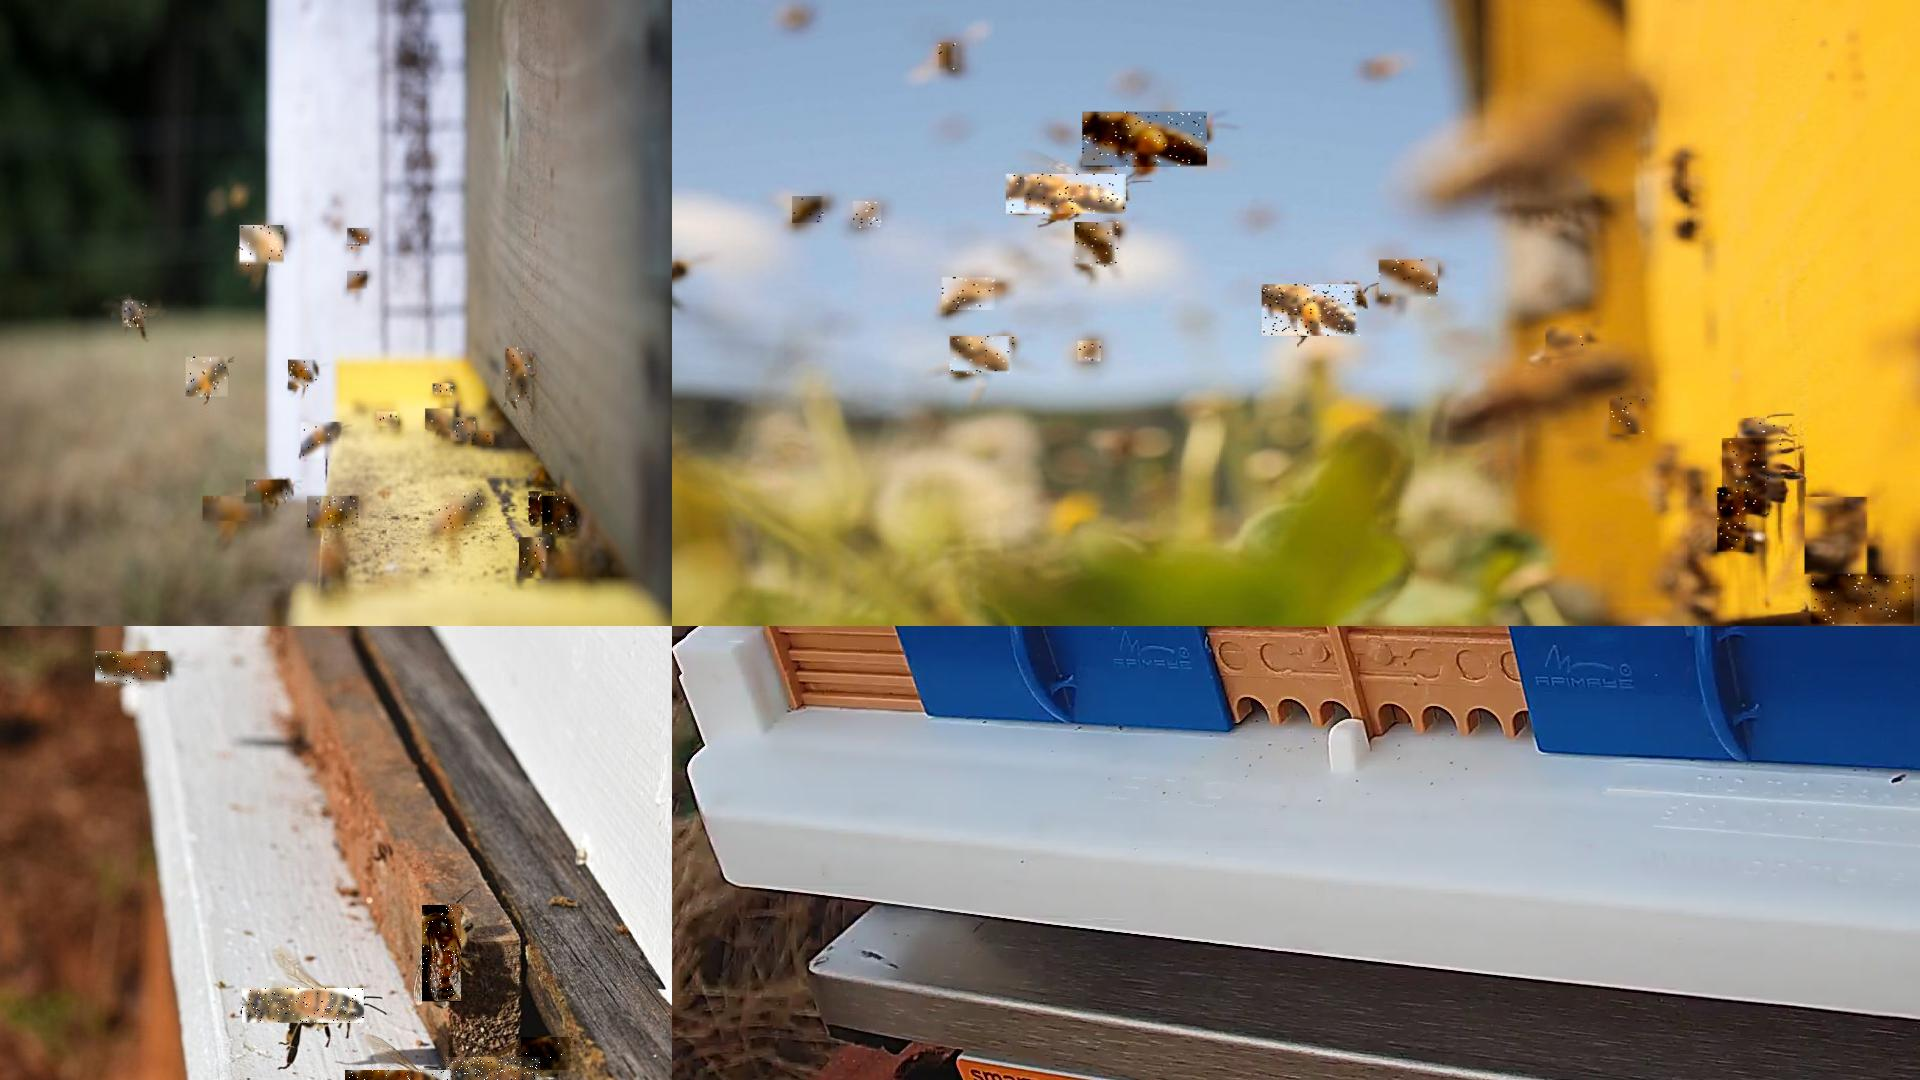bee: (1807, 497, 1875, 576), (1811, 574, 1915, 625), (243, 988, 365, 1025), (422, 906, 462, 1006), (1724, 438, 1772, 516), (1739, 418, 1785, 500), (951, 338, 1017, 377), (96, 651, 171, 686), (1378, 261, 1440, 301), (1718, 488, 1754, 554), (1076, 223, 1121, 270), (446, 1058, 542, 1079), (309, 497, 363, 534), (240, 225, 285, 269), (943, 277, 1000, 311), (438, 493, 484, 530), (522, 1038, 574, 1071), (301, 423, 343, 463), (203, 496, 266, 522), (1610, 396, 1647, 436), (506, 349, 533, 406), (1547, 327, 1592, 359), (520, 538, 551, 580), (543, 496, 574, 535), (247, 481, 294, 504), (345, 1069, 456, 1079), (794, 196, 828, 224), (289, 361, 319, 389), (529, 492, 556, 522), (853, 202, 882, 229), (426, 409, 459, 430), (123, 301, 148, 328), (450, 418, 477, 443), (940, 44, 963, 71), (1077, 342, 1102, 365), (348, 229, 371, 252), (472, 431, 498, 447), (377, 411, 401, 429), (348, 272, 368, 290), (434, 384, 455, 397)
pollenbee: (1083, 113, 1209, 171), (1263, 285, 1364, 338), (1006, 174, 1127, 215), (186, 357, 229, 398)
